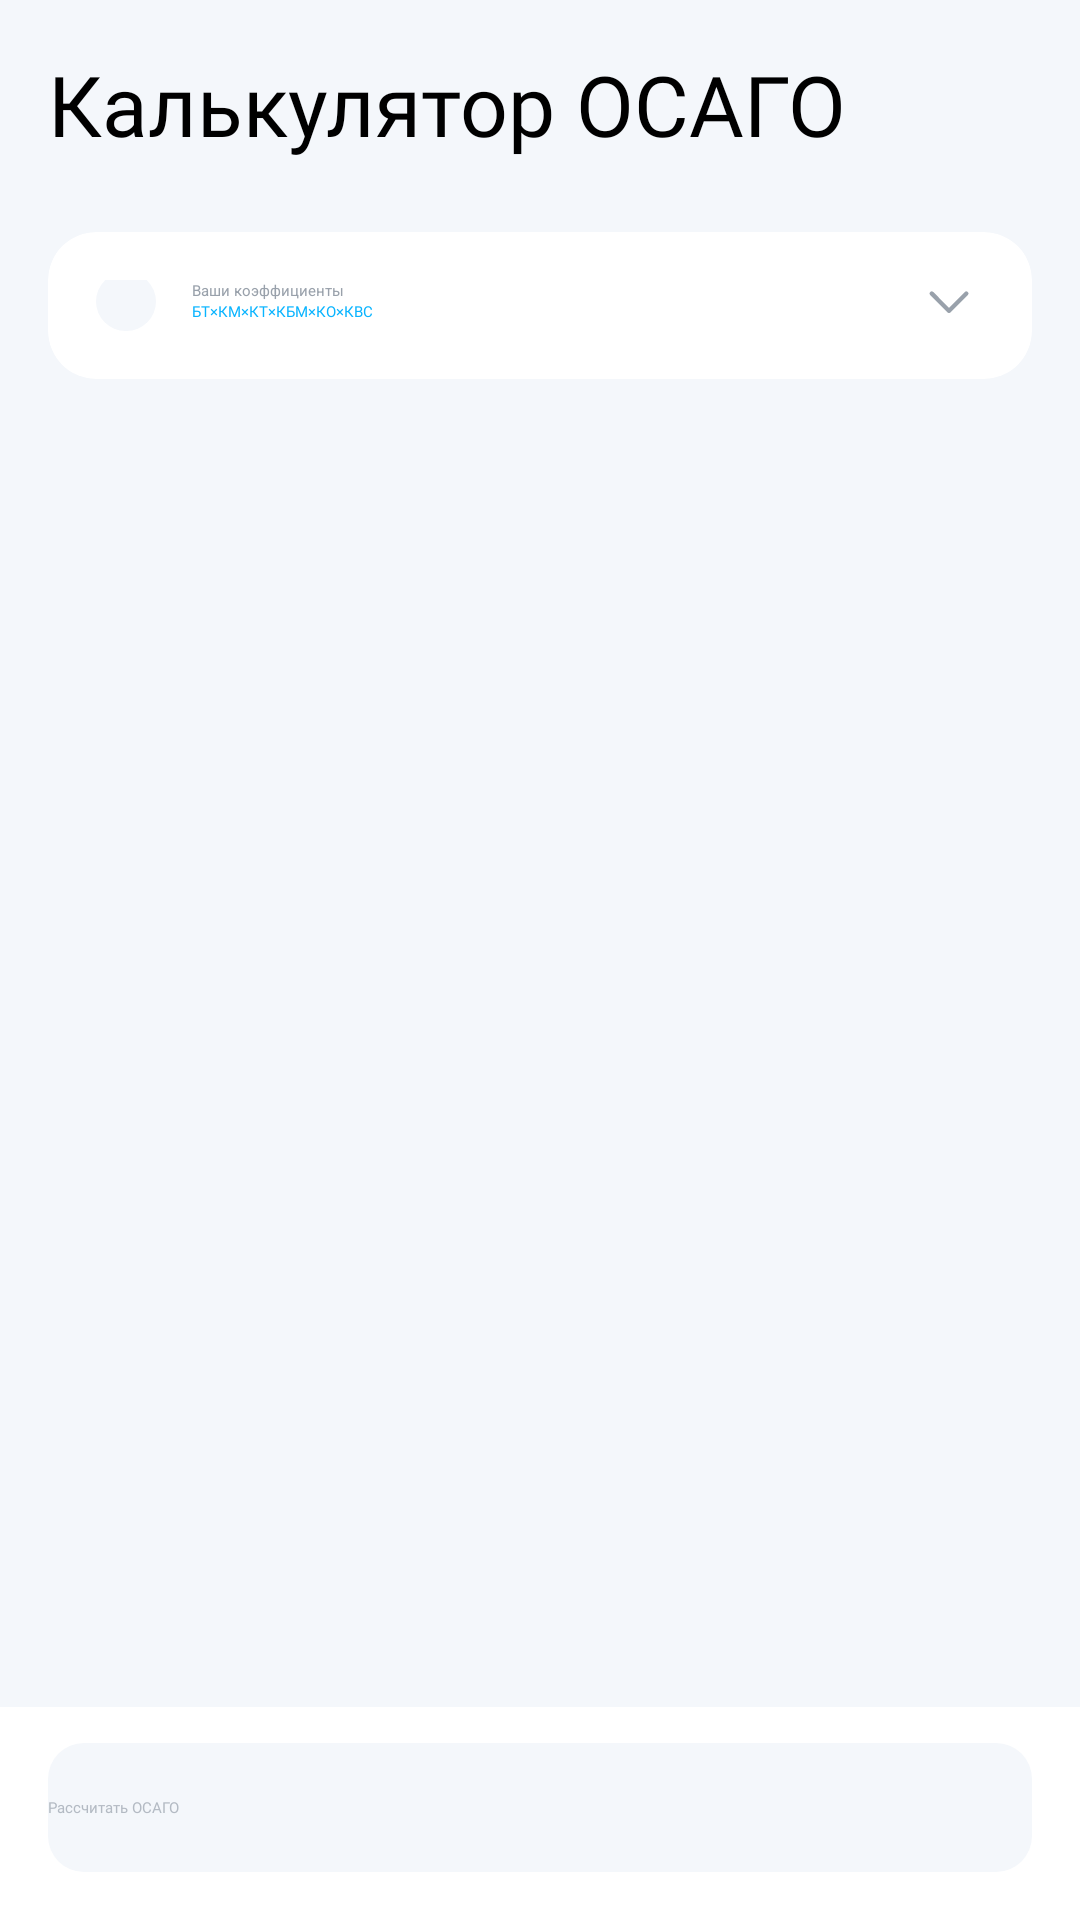

Point at icon controls on the screen. Image size 1080×1920, points as [x,y].
expand more: [949,302]
